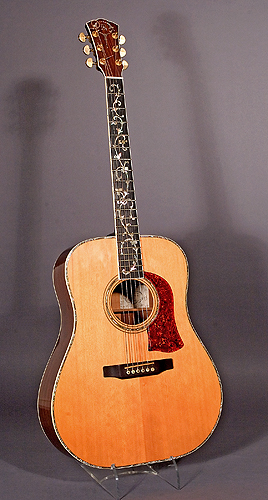guitar: (34, 18, 225, 470)
